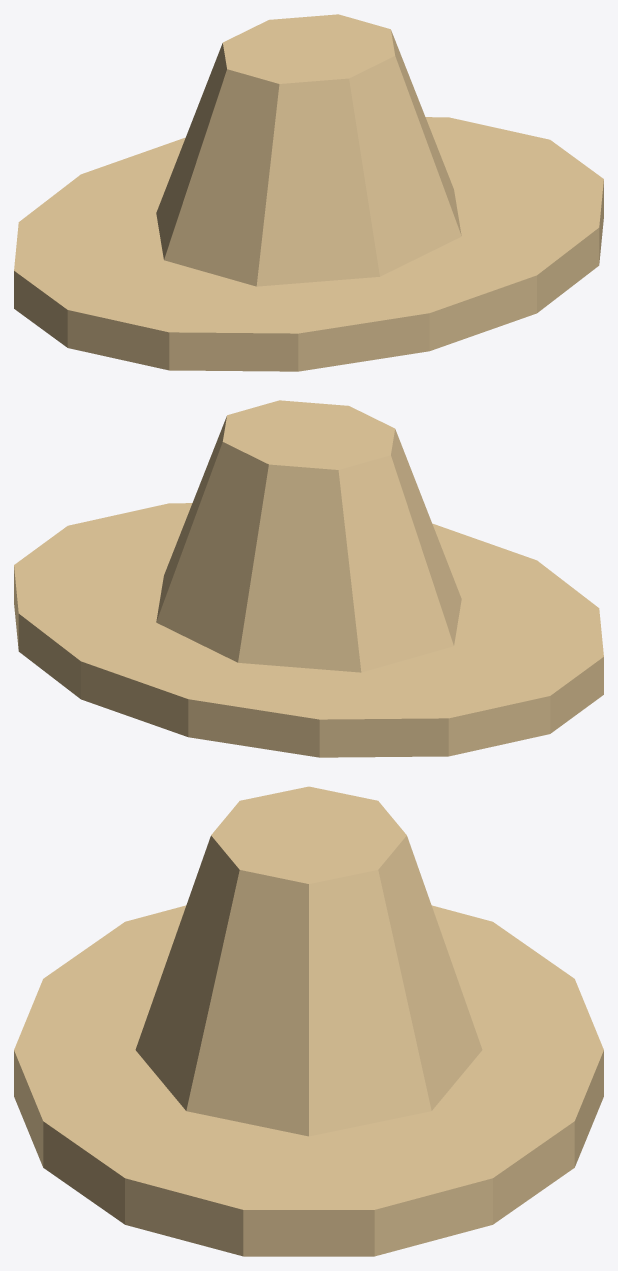
The model's file is npc_headwear_03.glb.
3 renders of one model, top to bottom at view 1: azimuth 30°, elevation 25°; view 2: azimuth 150°, elevation 25°; view 3: azimuth 270°, elevation 25°, orthographic. The views are drawn at different scales.
Parts seen in each view (by area): view 1: npc_headwear_03; view 2: npc_headwear_03; view 3: npc_headwear_03.
Part boxes in pixels (left/top/right/bottom): npc_headwear_03: left=14, top=14, right=603, bottom=371; npc_headwear_03: left=14, top=400, right=603, bottom=757; npc_headwear_03: left=14, top=786, right=603, bottom=1256.
Size of the model in its own units: 0.663 by 0.2525 by 0.5168.
